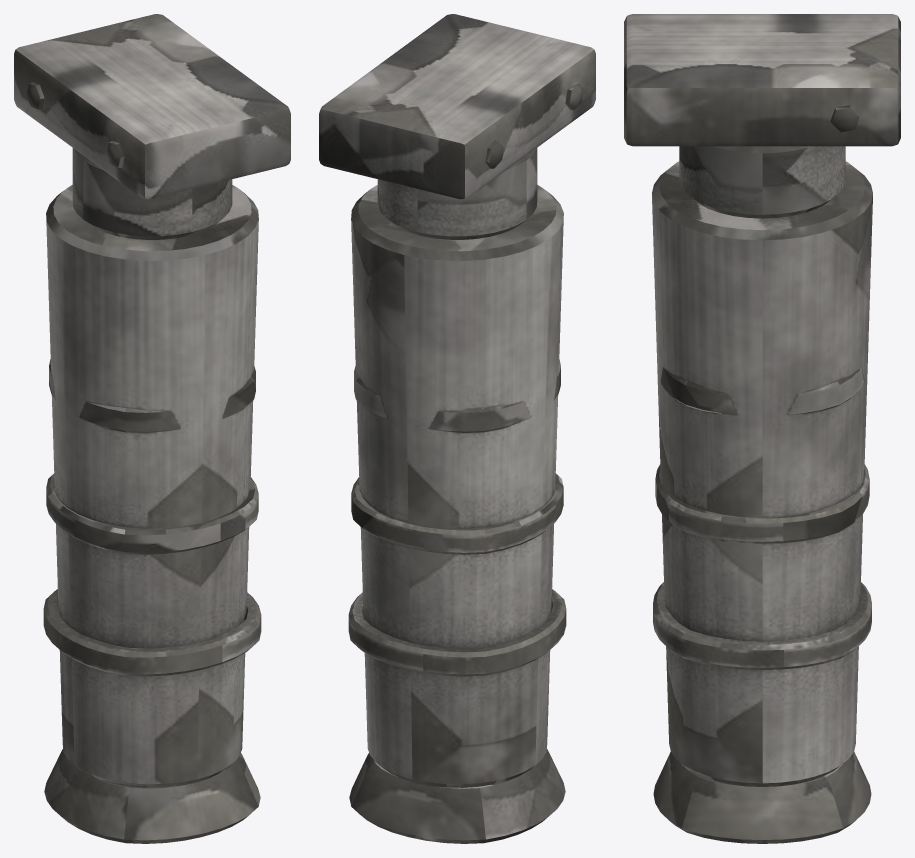
File: vertical_grip.glb
3 views of the same model, side by side, from view 1: azimuth 30°, elevation 25°; view 2: azimuth 150°, elevation 25°; view 3: azimuth 270°, elevation 25° (orthographic). The views are drawn at different scales.
Parts seen in each view (by area): view 1: grip, clamp, cap, stem, rib_c, rib_b, rib_a; view 2: grip, clamp, cap, stem, rib_c, rib_b, rib_a; view 3: grip, clamp, cap, stem, rib_c, rib_b, rib_a, clamp_screw.
Part boxes in pixels (box(x1,y1,x2,y2)): grip: box(46, 185, 258, 787); clamp: box(14, 14, 290, 199); cap: box(44, 749, 260, 843); stem: box(72, 148, 232, 239); rib_c: box(43, 589, 261, 676); rib_b: box(46, 473, 258, 554); rib_a: box(49, 359, 255, 432); grip: box(351, 185, 563, 787); clamp: box(319, 14, 595, 199); cap: box(349, 749, 565, 843); stem: box(377, 148, 537, 239); rib_c: box(348, 589, 566, 676); rib_b: box(351, 473, 563, 554); rib_a: box(354, 359, 560, 432); grip: box(652, 161, 872, 786); clamp: box(624, 14, 900, 146); cap: box(653, 751, 871, 843); stem: box(679, 146, 845, 218); rib_c: box(653, 582, 871, 669); rib_b: box(655, 464, 869, 543); rib_a: box(660, 367, 864, 414); clamp_screw: box(830, 105, 860, 132).
Size of the model in its own units: 0.032 by 0.12 by 0.04.
1 material, 1 textured.
